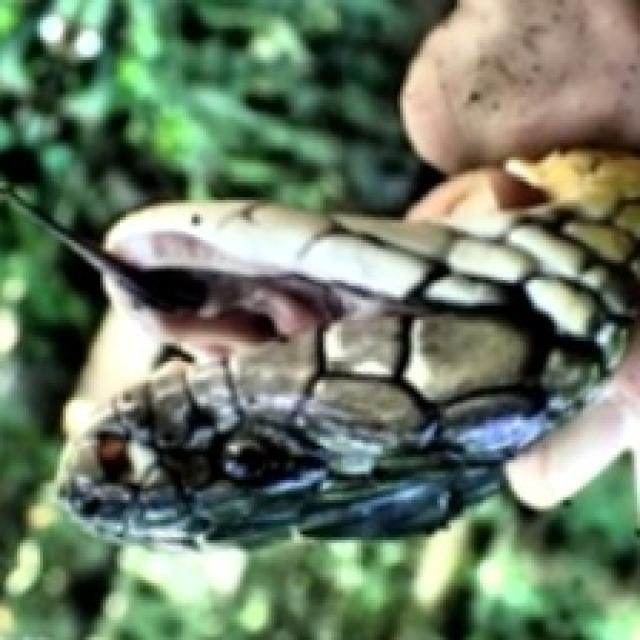king cobra: (29, 149, 637, 540)
